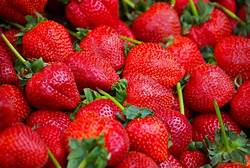Fresa: (120, 71, 195, 121), (124, 40, 187, 91), (22, 61, 83, 112), (63, 45, 125, 92), (19, 17, 77, 65), (123, 110, 171, 168), (185, 61, 235, 112), (76, 24, 128, 73)
